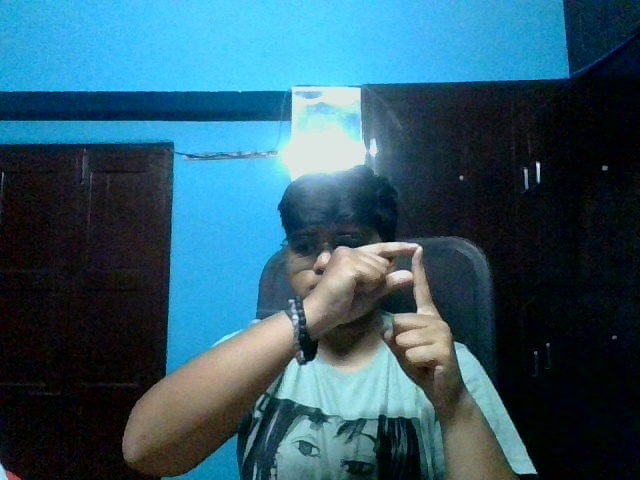P: (323, 236, 464, 413)
